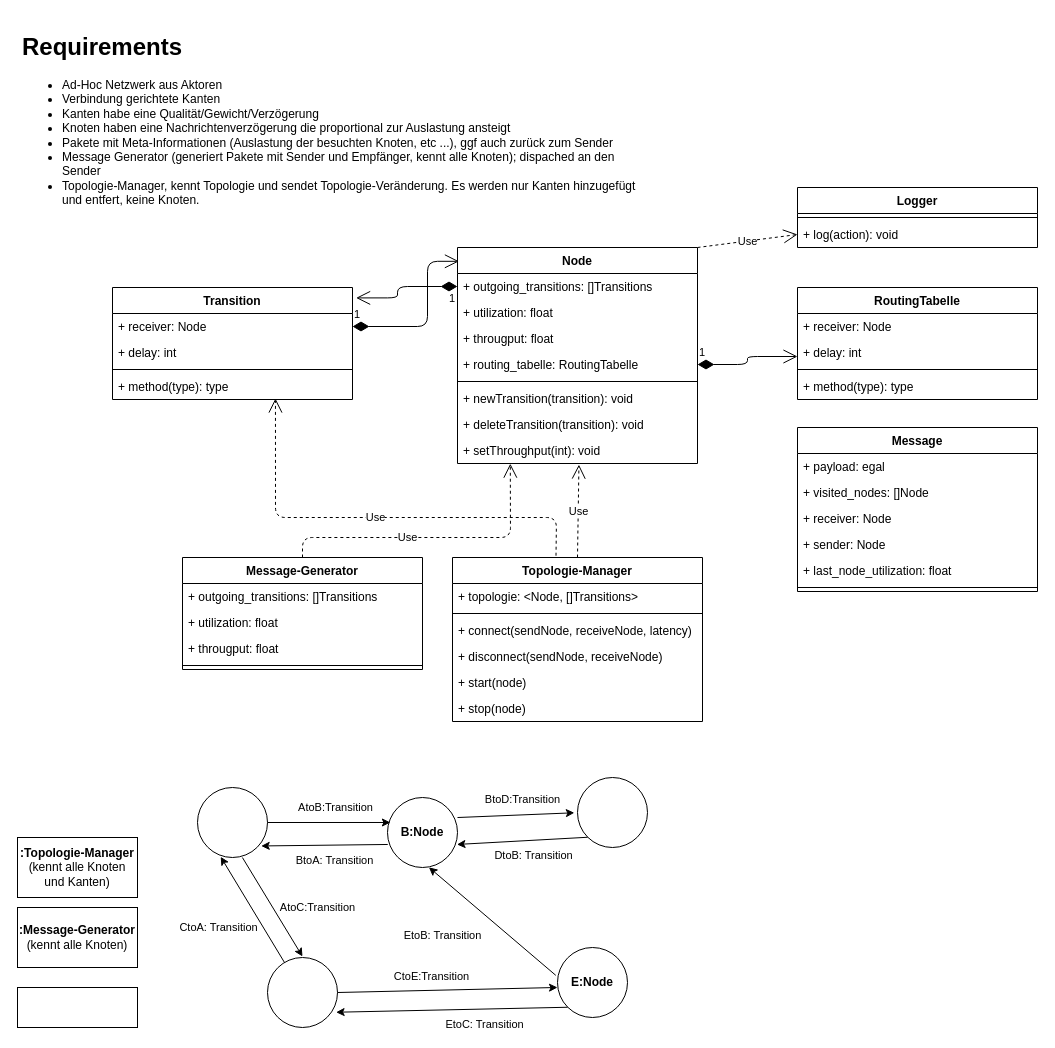
Some shapes in this 1055 by 1048 pixel diagram are drawn without their labels. The shapes that lost their labels are listed below. From the top down, each one's centre as x and y in pixels, then its label:
point (232, 822): A:Node
point (612, 812): D:Node
point (77, 1007): :Logger
point (302, 992): C:Node
